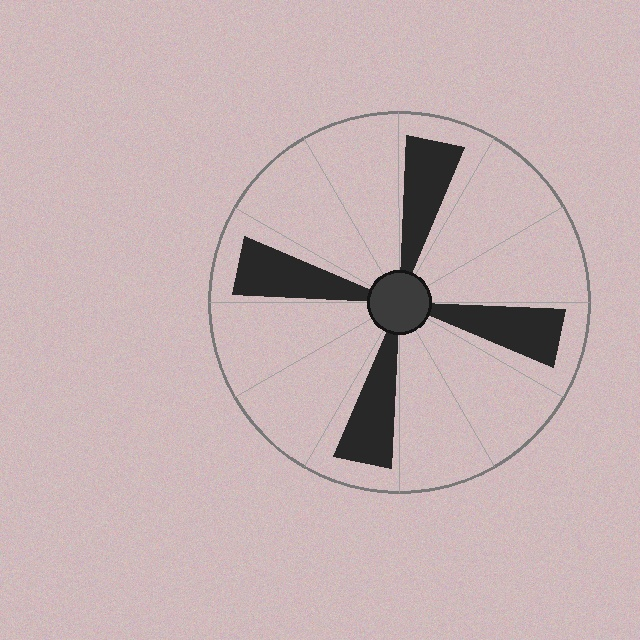fan: (204, 107, 594, 497)
